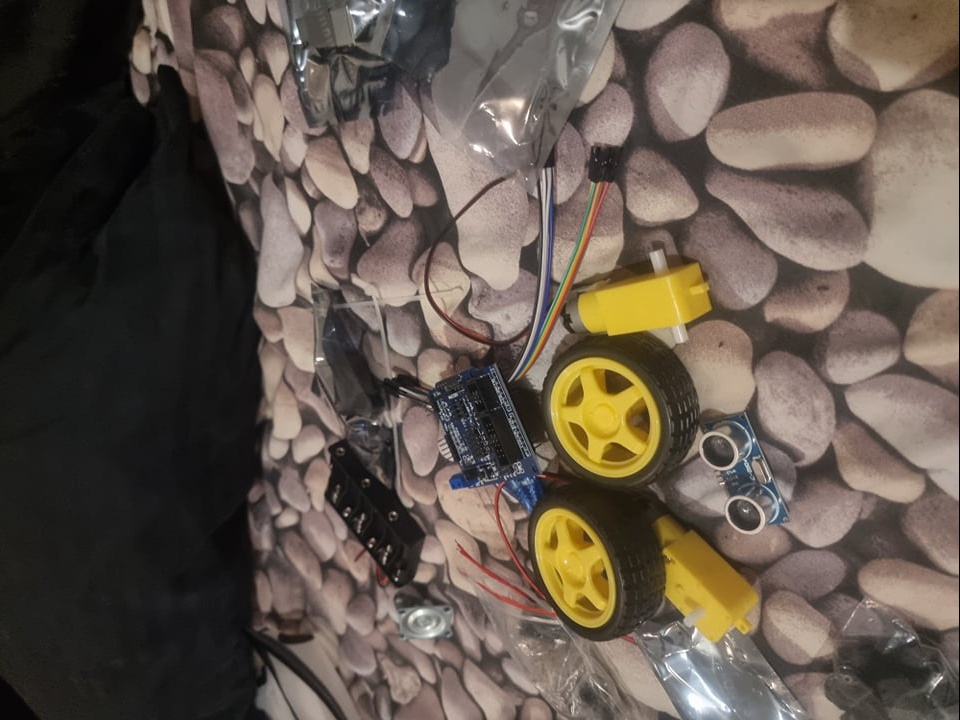5V EXPANSION: (430, 360, 543, 491)
BATTERY BOX: (306, 446, 427, 588)
SENSOR: (699, 416, 783, 537)
